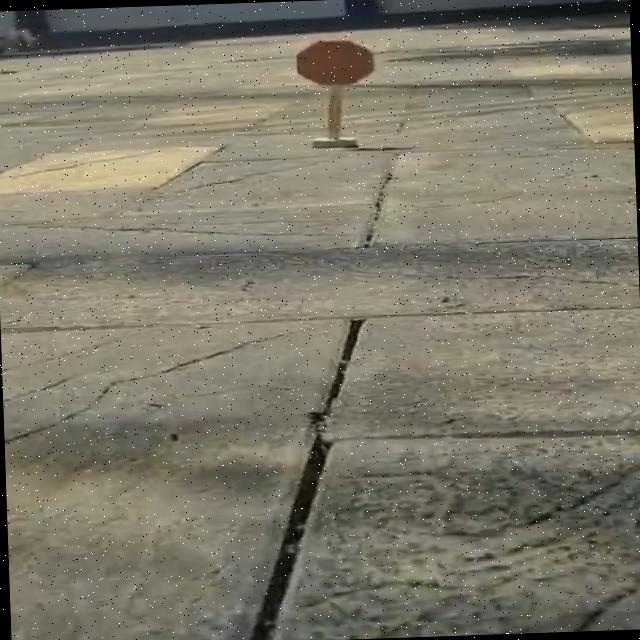Stop: (277, 30, 389, 98)
